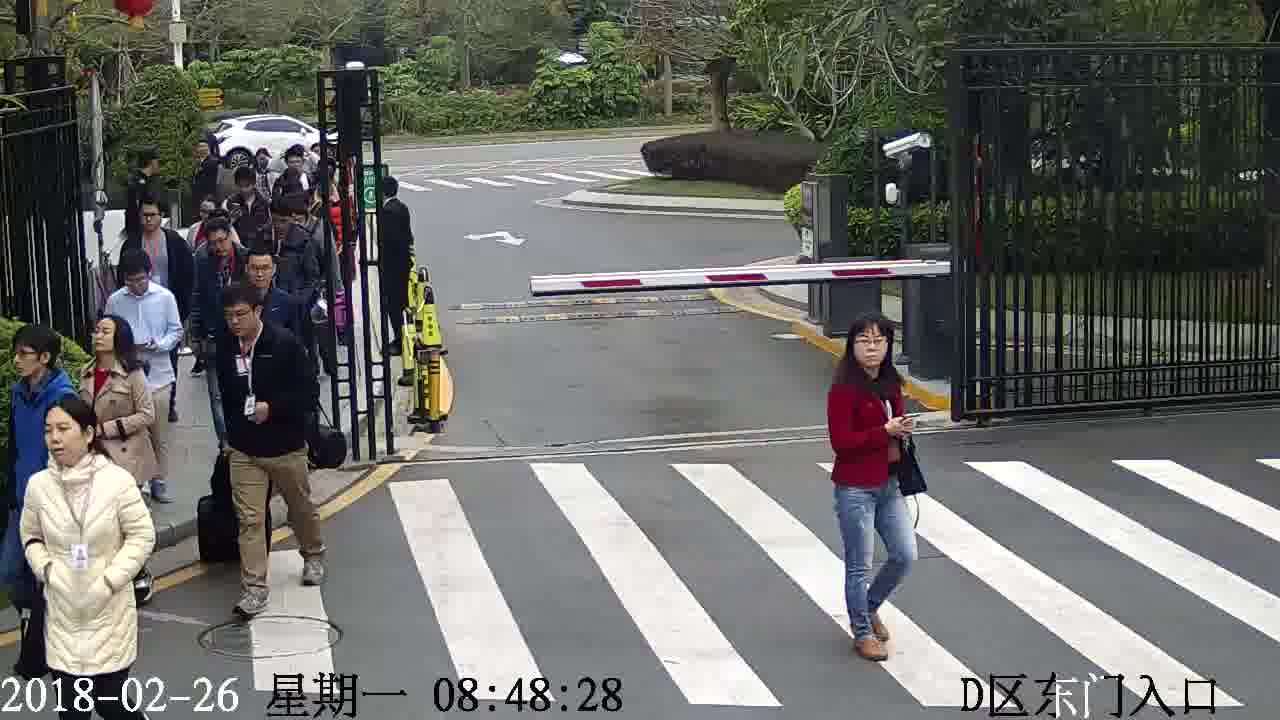face: (37, 407, 93, 463), (848, 321, 894, 367), (218, 303, 259, 340), (240, 252, 277, 292), (10, 342, 46, 381), (87, 317, 116, 355), (134, 200, 163, 233)
person: (26, 397, 133, 502), (827, 309, 909, 403), (8, 322, 79, 411), (218, 287, 299, 364), (82, 310, 149, 395), (107, 246, 175, 313), (238, 247, 301, 314), (116, 195, 185, 254), (253, 196, 314, 253), (192, 214, 246, 273), (189, 189, 240, 242), (375, 172, 411, 221), (226, 166, 270, 206), (276, 145, 316, 189), (130, 148, 166, 193), (188, 134, 223, 175)
